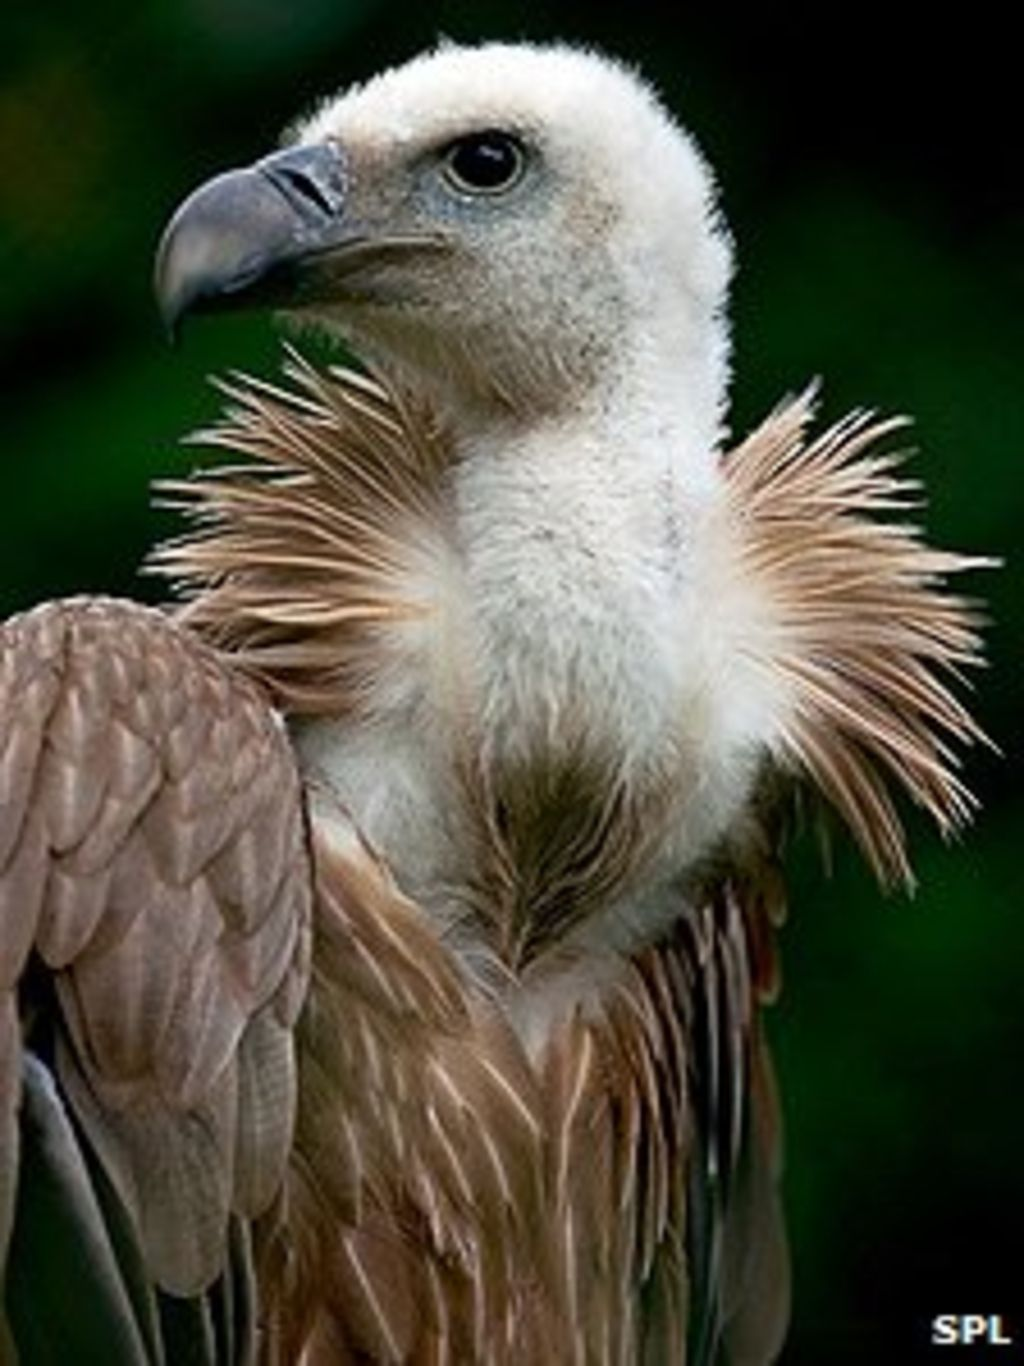Pengoyak Daging: (87, 158, 305, 360)
